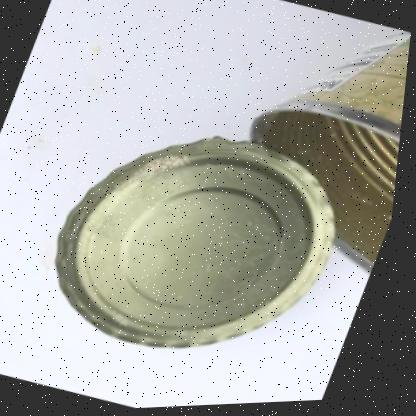Metal: (60, 33, 412, 349)
